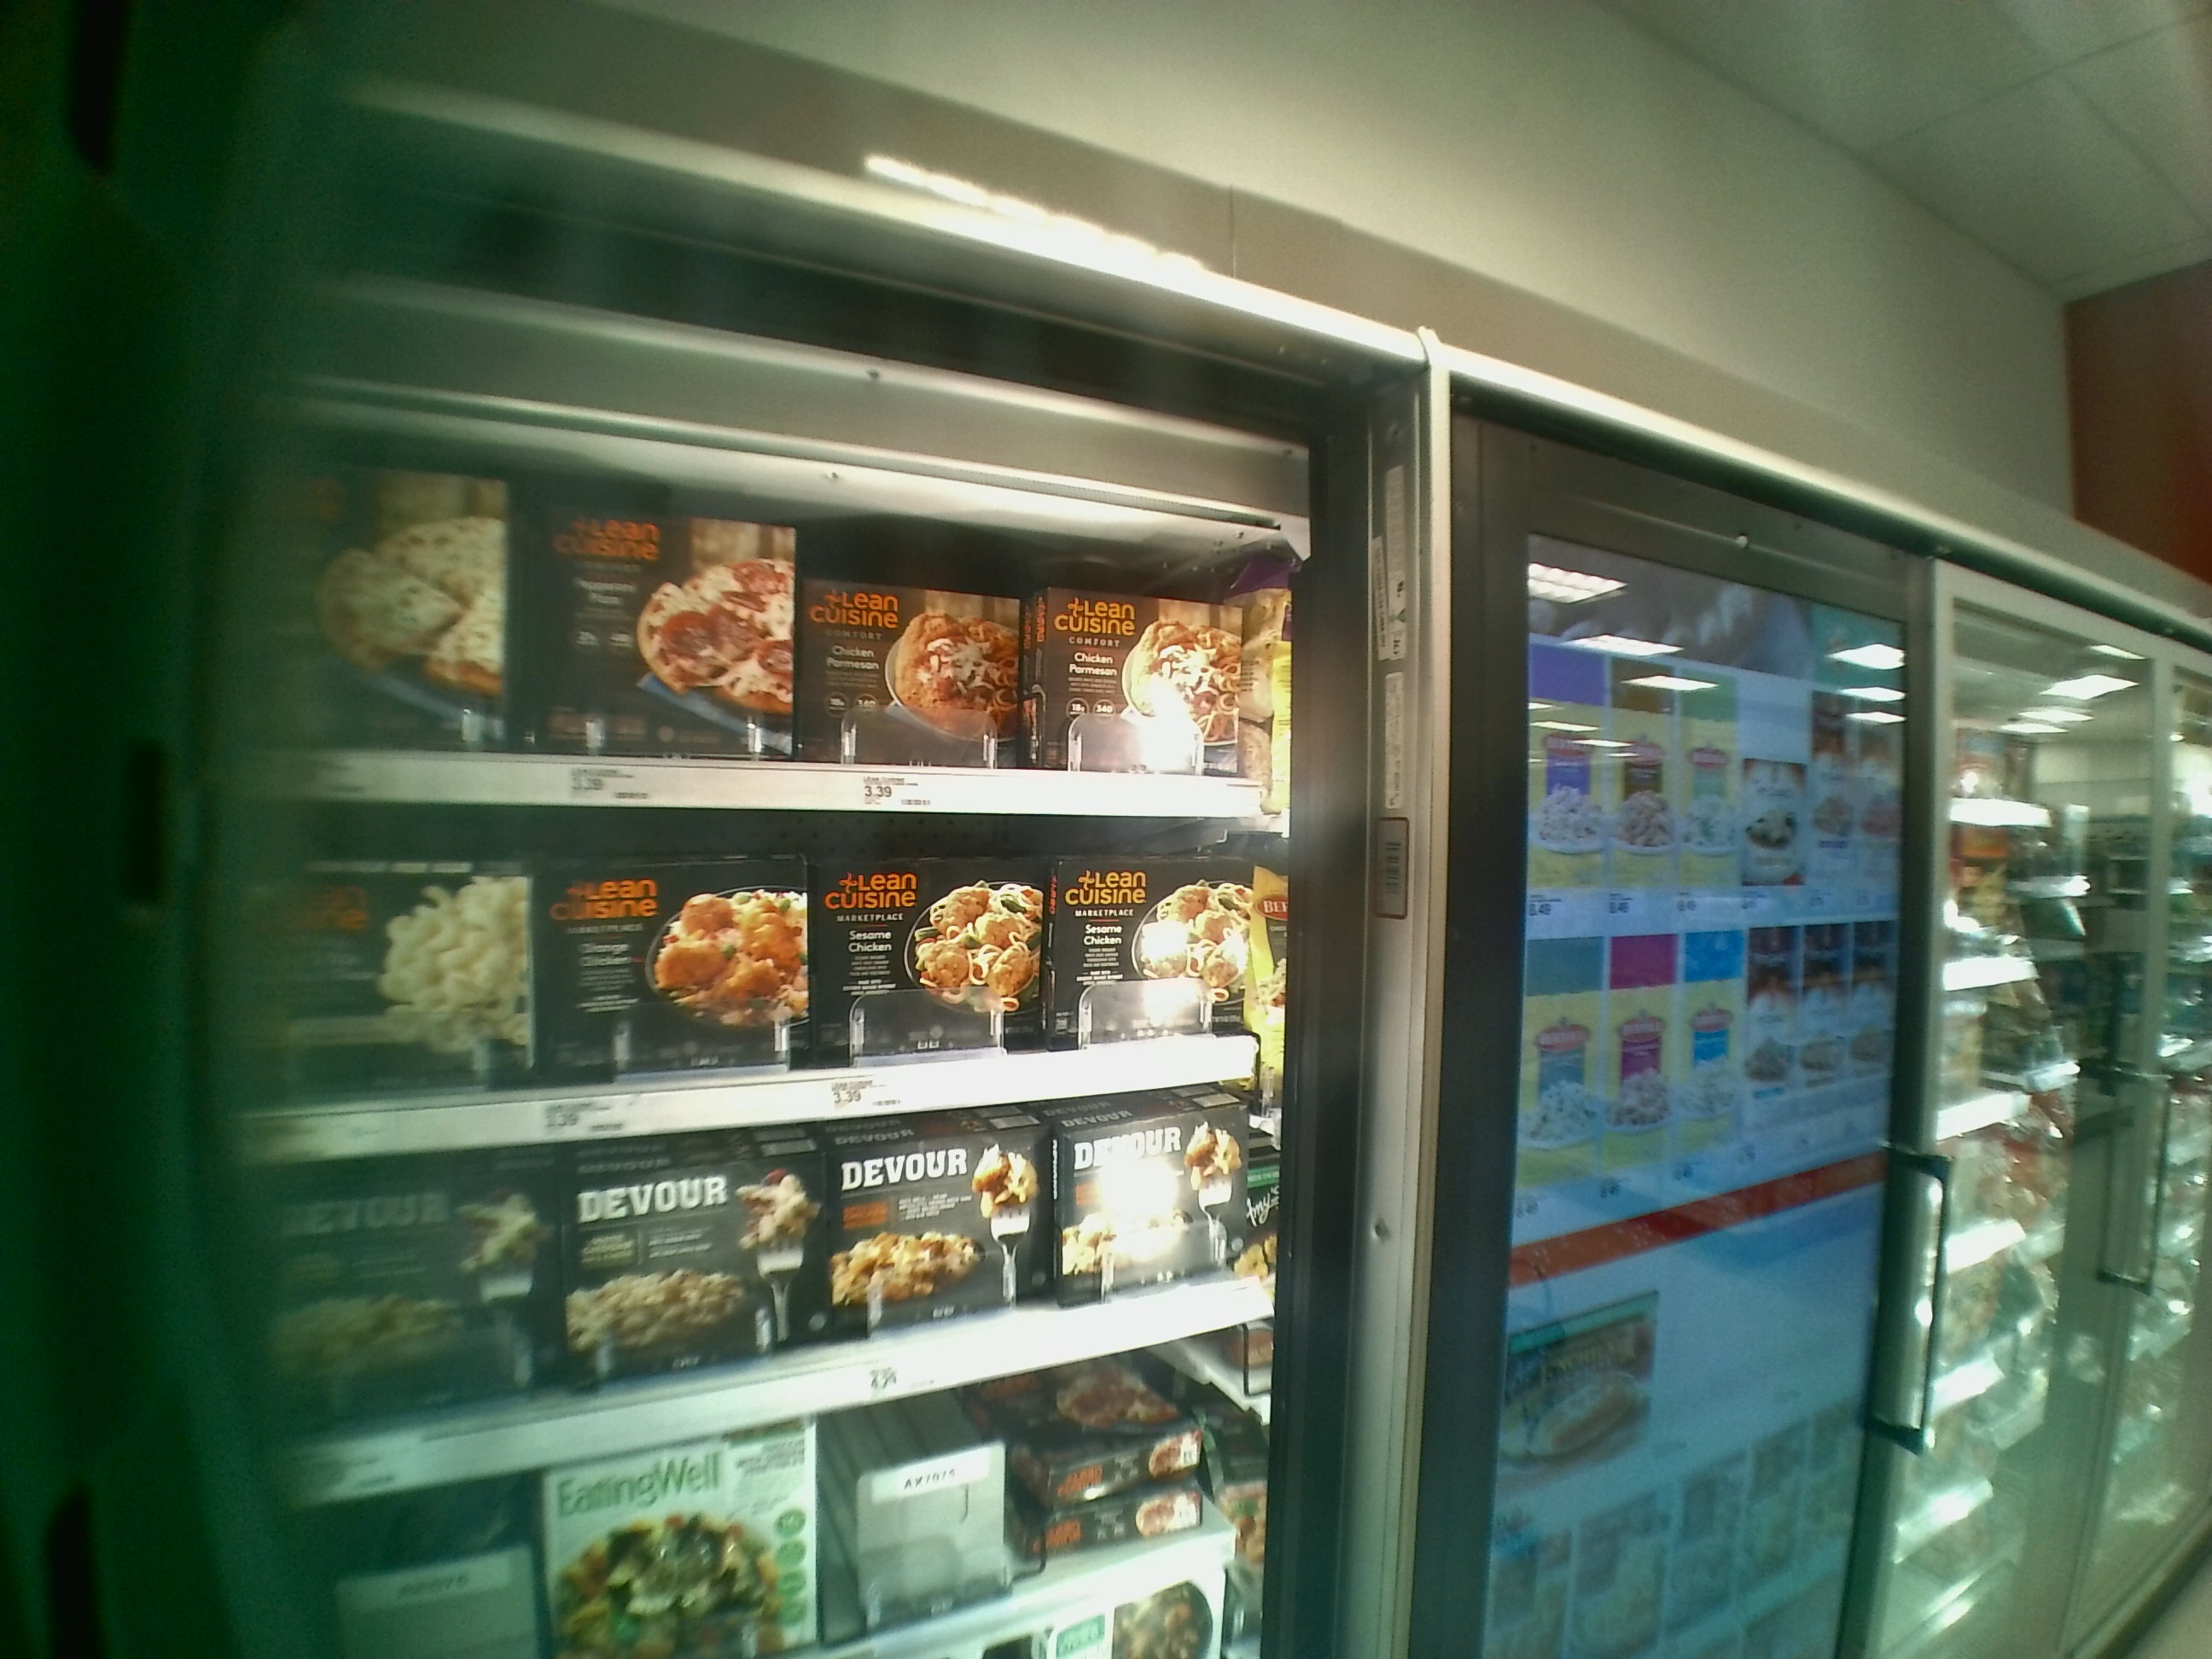shelf: (249, 401, 1299, 809), (239, 809, 1289, 1150)
